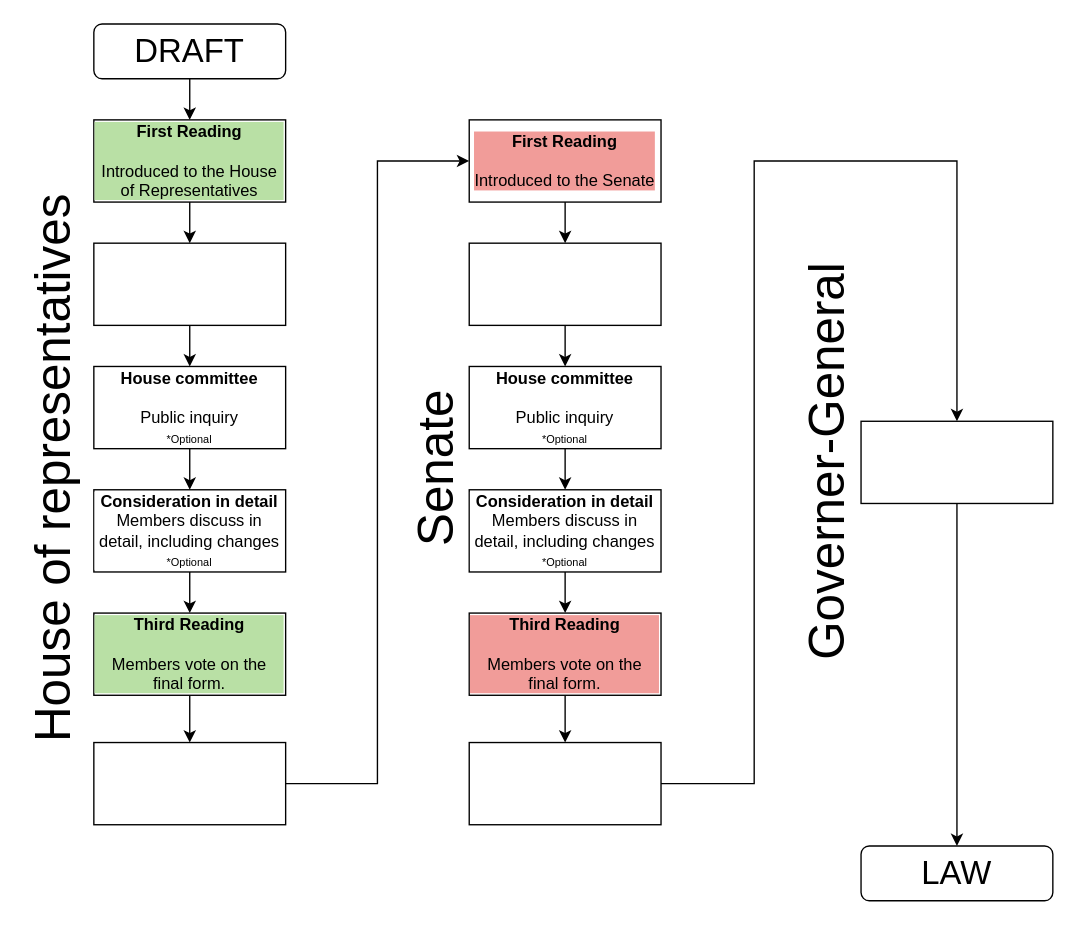
This 1077x925 diagram has some shape labels left out. Here are the shapes that lost their labels. From the top down, the centre of each, then its label:
point (189, 283): Second Reading Members debate and vote on the idea
point (564, 283): Second Reading Senators debate and vote on the idea
point (956, 461): Royal Assent Governor-General signs.
point (189, 783): Passed In the House of Representatives and sent to the Senate.
point (564, 783): Passed In the Senate.
